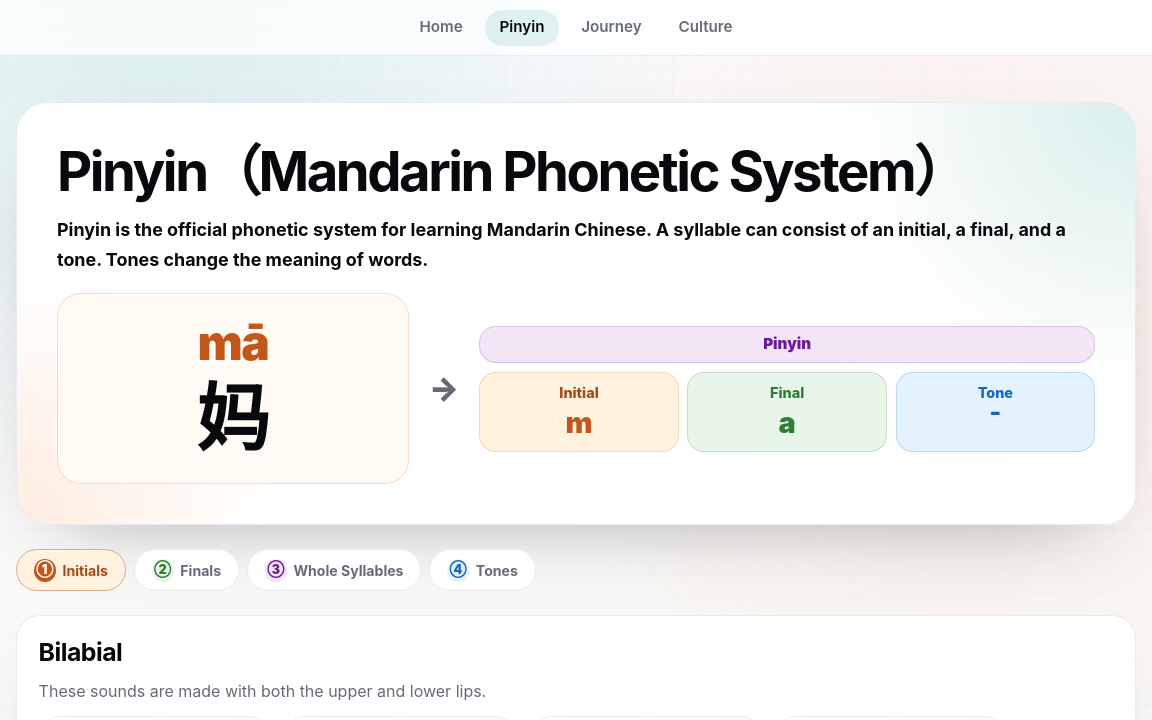
Test: PinyinPage › switches to the whole syllables module and renders all sixteen cards
The image size is (1152, 720).
Click the tab "③ Whole Syllables".
click(334, 570)  # box [247,549,421,591]
(page scrolled)
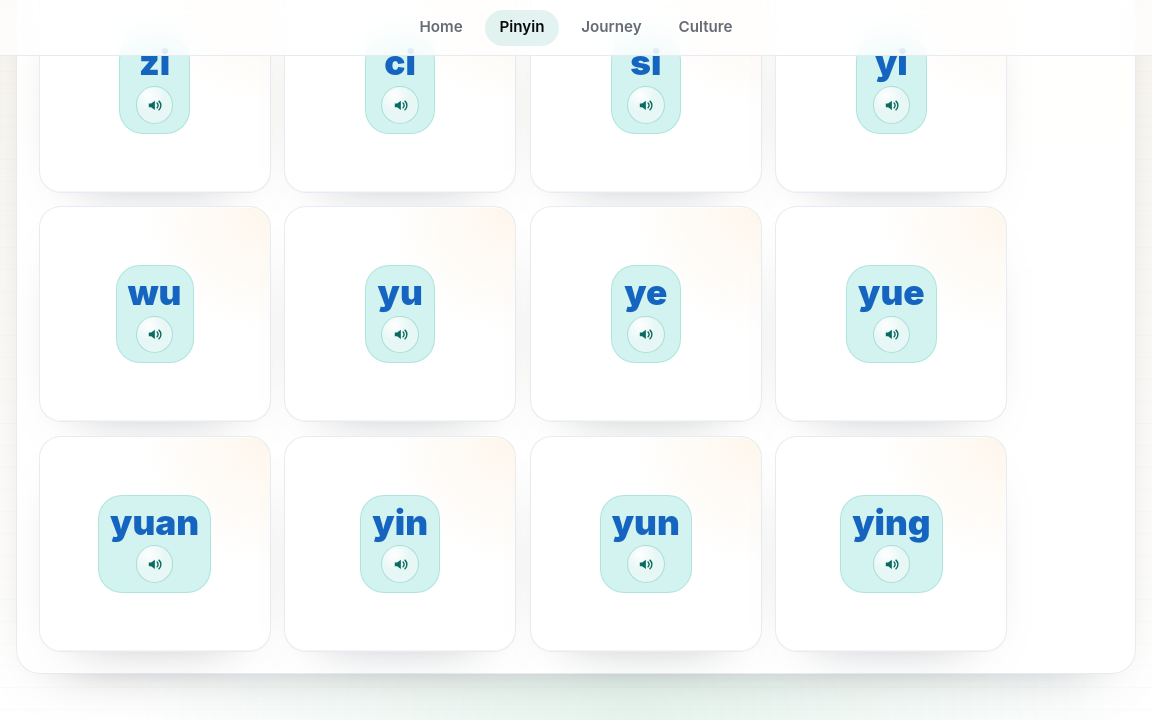
Now the text "ying" is shown, box [852,505,931,540]
Now the button named "Play ying" is shown, box [873,545,910,583]
